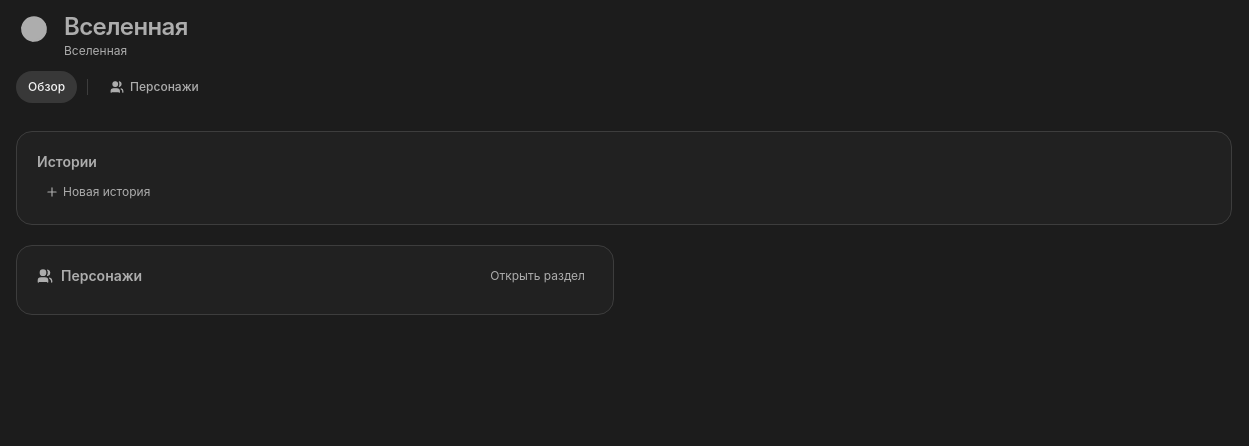
Test: a story made on the page of a universe › keeps the story and says why it is not in the universe when the link fails
This screenshot has width=1249, height=446.
Click the button "Новая история" at (98,192), box [37,180,158,204]
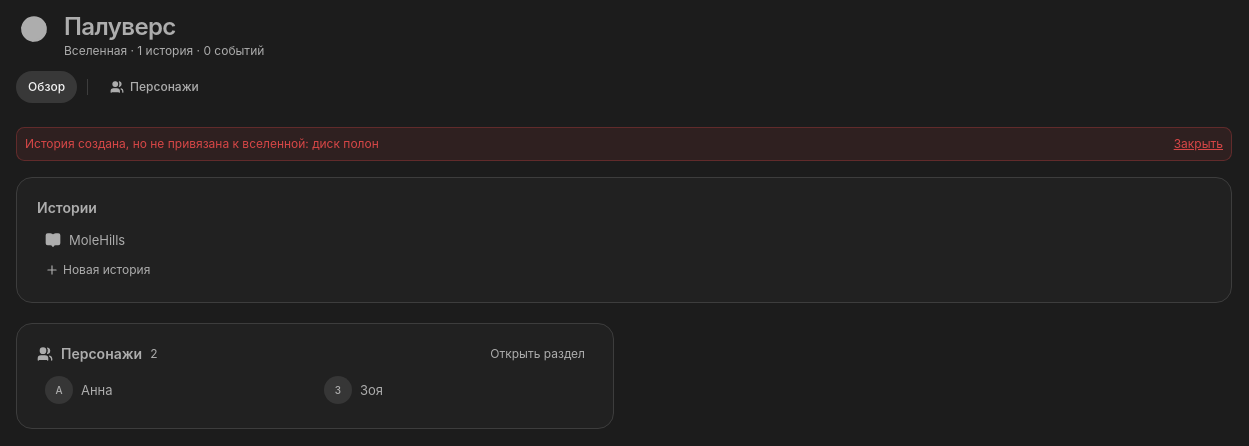
Now the message shows "История создана, но не привязана к вселенной", box [25,136,379,151]
Now the message shows "диск полон", box [25,136,379,151]
